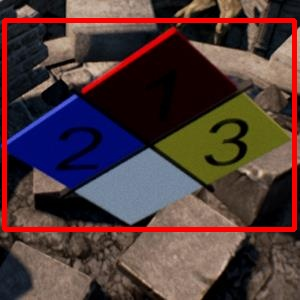nfpa: (4, 20, 294, 229)
